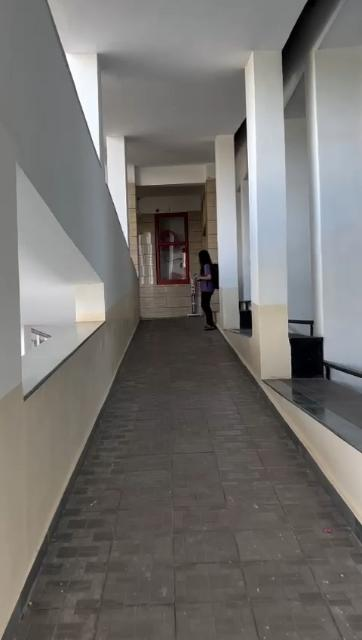floor: (8, 315, 362, 639)
moving-obj: (173, 252, 225, 334)
wall: (1, 0, 137, 637), (245, 58, 289, 374), (314, 46, 362, 334), (108, 141, 140, 331), (219, 138, 241, 334), (142, 218, 156, 320), (158, 284, 190, 316), (193, 212, 213, 250)
